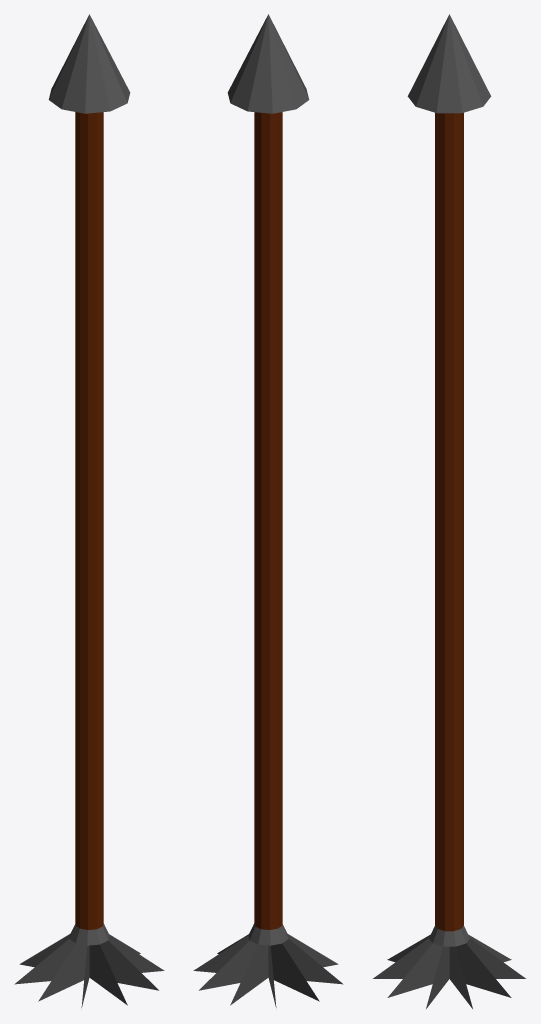
Rendered from Arrow.fbx.
3 views of the same model, side by side, from view 1: azimuth 30°, elevation 25°; view 2: azimuth 150°, elevation 25°; view 3: azimuth 270°, elevation 25° (orthographic).
Visible parts, largest first — view 1: Cylinder; view 2: Cylinder; view 3: Cylinder.
Part boxes in pixels (bbox=[...]): Cylinder: bbox=[14, 14, 164, 1007]; Cylinder: bbox=[193, 14, 343, 1007]; Cylinder: bbox=[373, 14, 525, 1008].
Size of the model in its own units: 10.22 by 74.2 by 10.75.
